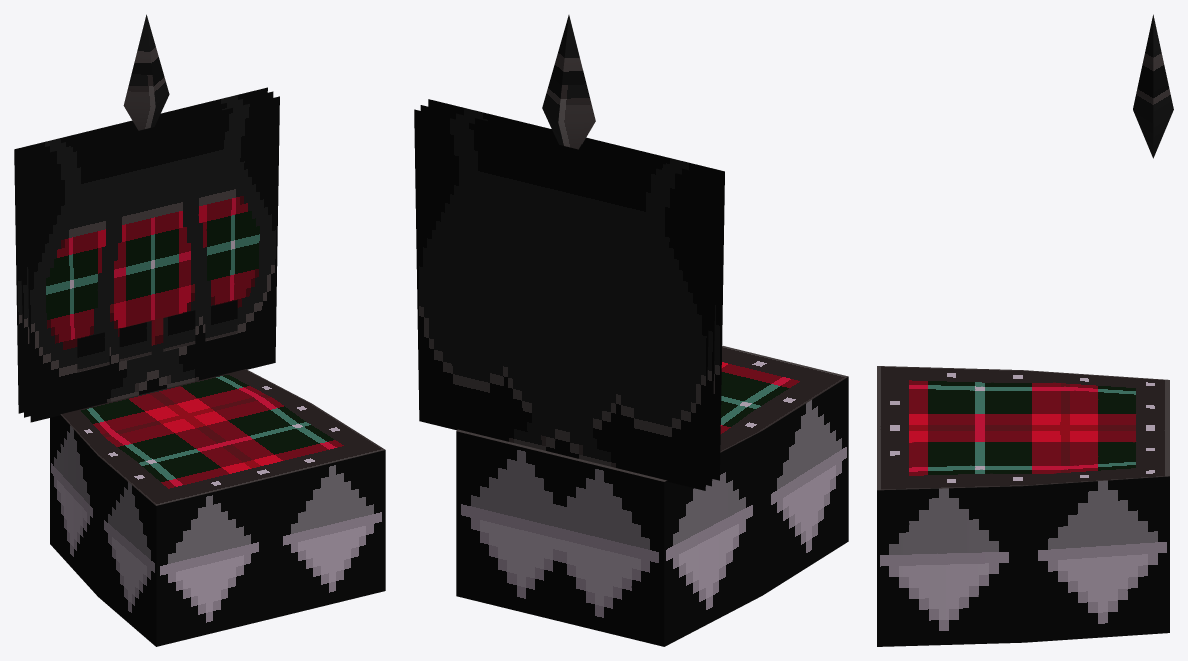
3 views of the same model, side by side, from view 1: azimuth 30°, elevation 25°; view 2: azimuth 150°, elevation 25°; view 3: azimuth 270°, elevation 25° (orthographic). The views are drawn at different scales.
Parts seen in each view (by area): view 1: 3834kg3_ser15; view 2: 3834kg3_ser15; view 3: 3834kg3_ser15.
Part boxes in pixels (<box>): 3834kg3_ser15: <box>14,14,385,646</box>; 3834kg3_ser15: <box>414,15,848,646</box>; 3834kg3_ser15: <box>877,14,1173,646</box>.
Size of the model in its own units: 0.8281 by 1.6 by 0.7559.
4 materials, 4 textured.
